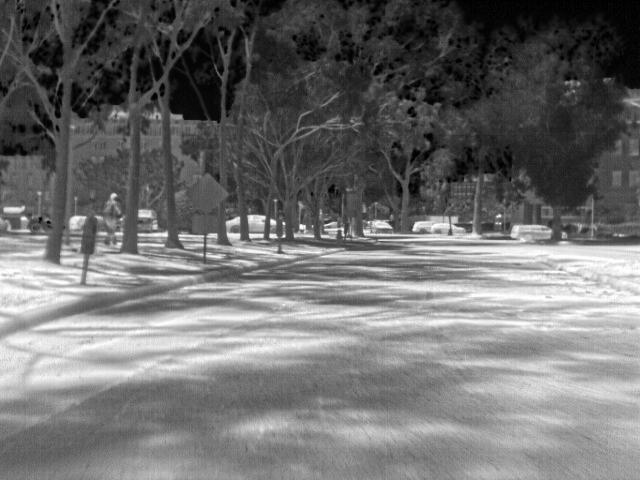car: (509, 222, 553, 242), (137, 208, 160, 233), (430, 222, 468, 234), (248, 213, 268, 233), (370, 218, 394, 234), (224, 214, 242, 233), (412, 220, 431, 232)
person: (102, 191, 126, 247)
